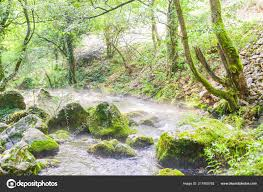forest: (4, 1, 263, 173)
